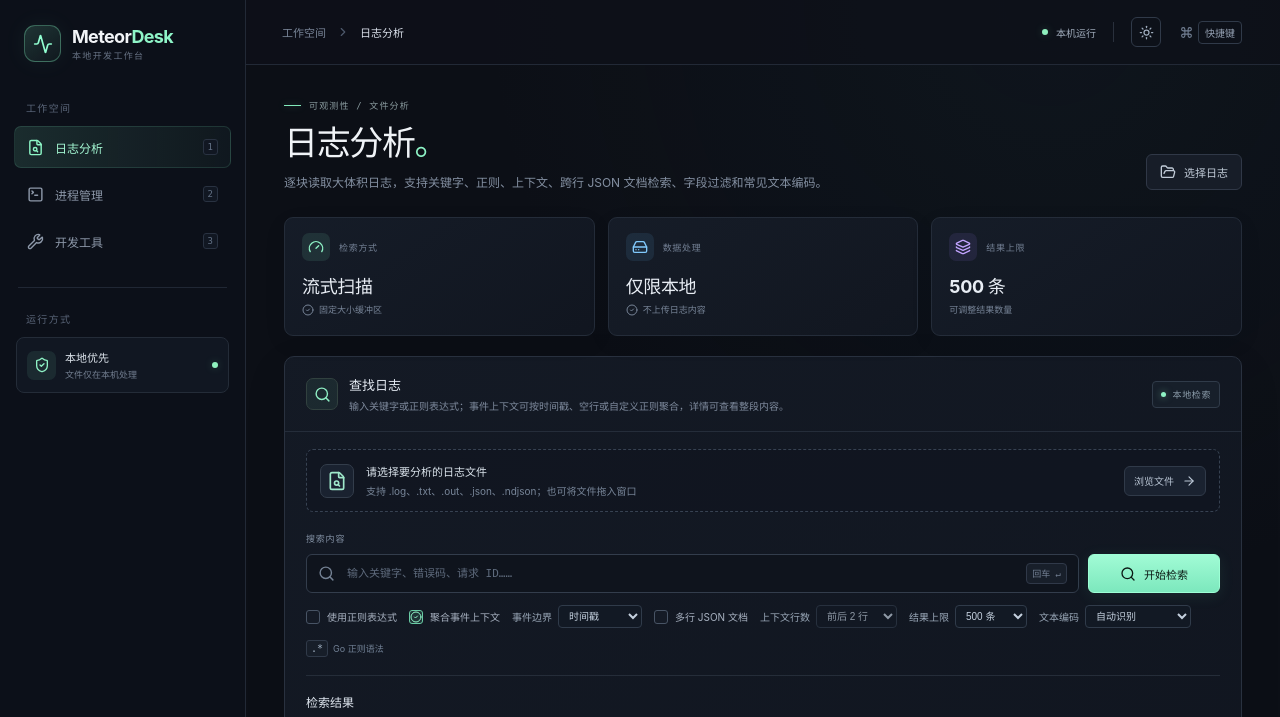
Scenario: log search options › exports the current results with context through the desktop bridge
Click the button "选择日志" at [1194, 172], box [1146,154,1242,190]
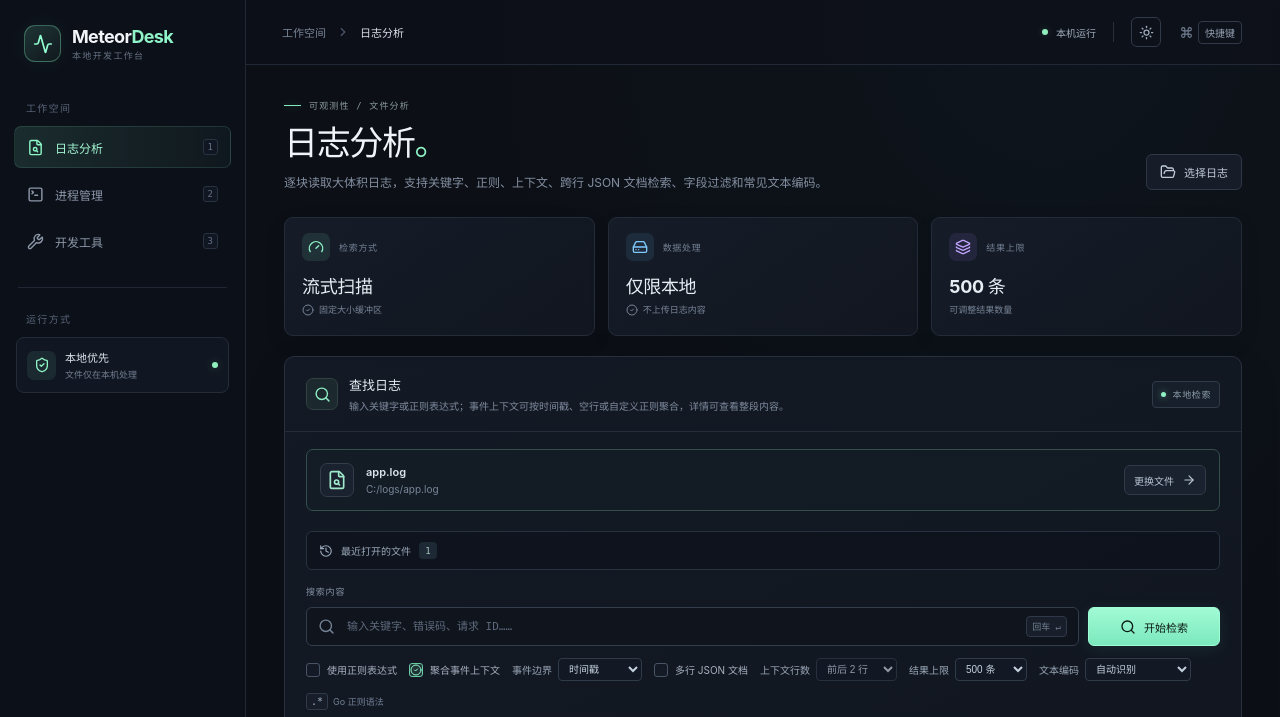
Type "boom" into the field with id "search-query" at [681, 627], box [345,608,1016,645]
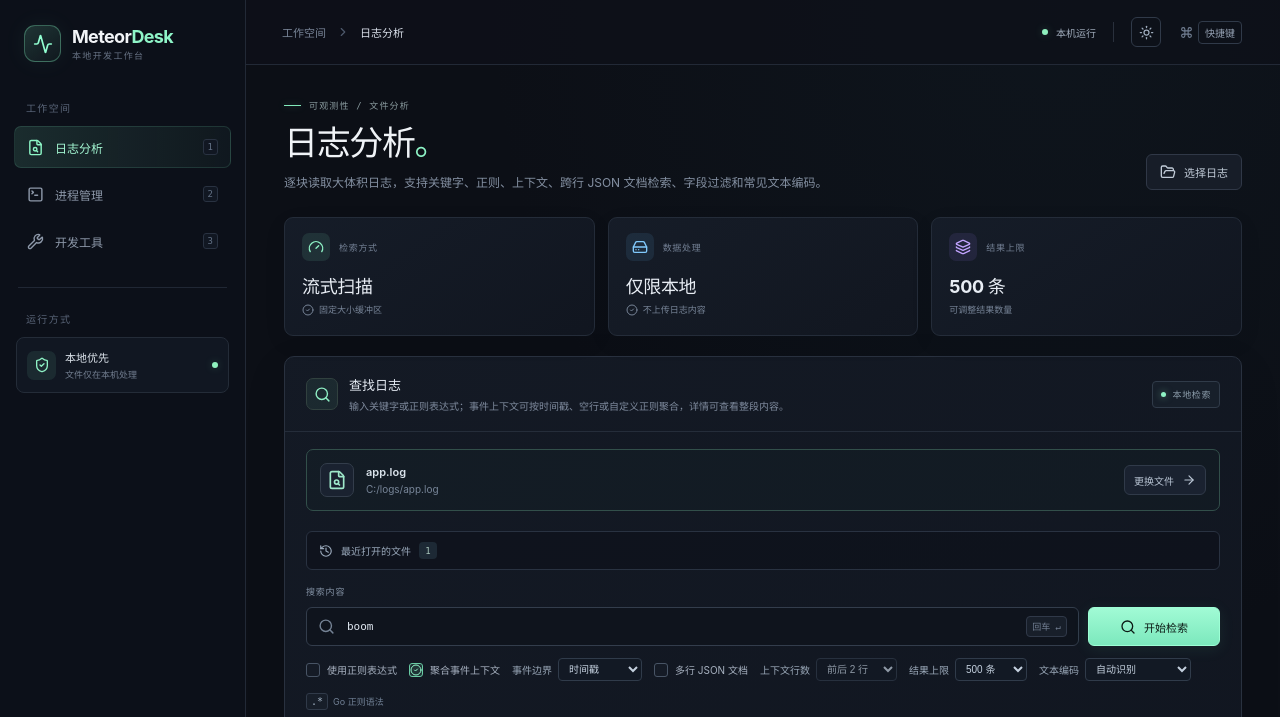
Click the submit button at [1154, 627], box [1088,607,1220,646]
(page scrolled)
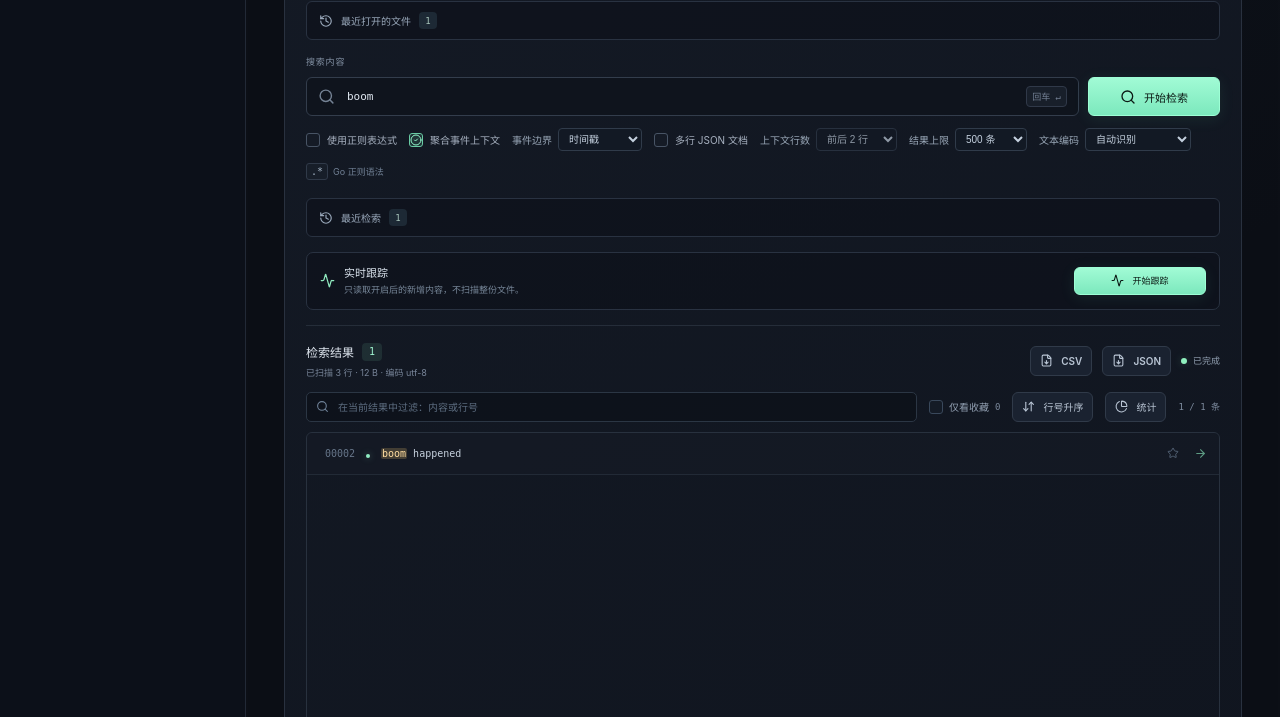
Click the button "CSV" at [1061, 360], box [1030,346,1092,376]
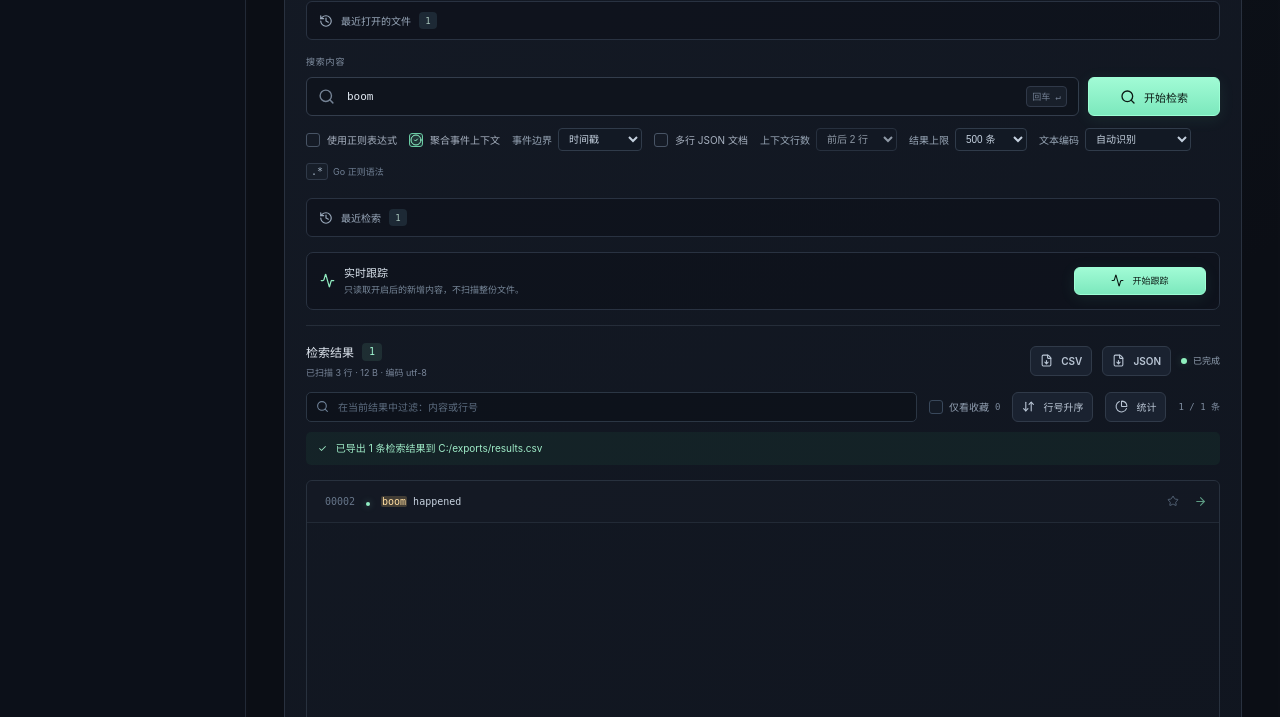
expect the element with class "notice-success" shows "已导出 1 条检索结果": met, box [336,442,542,454]
